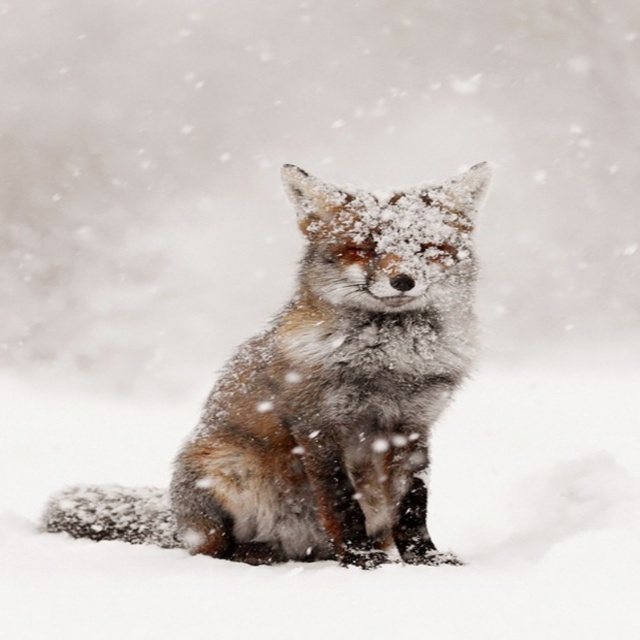Fox: (39, 161, 494, 570)
